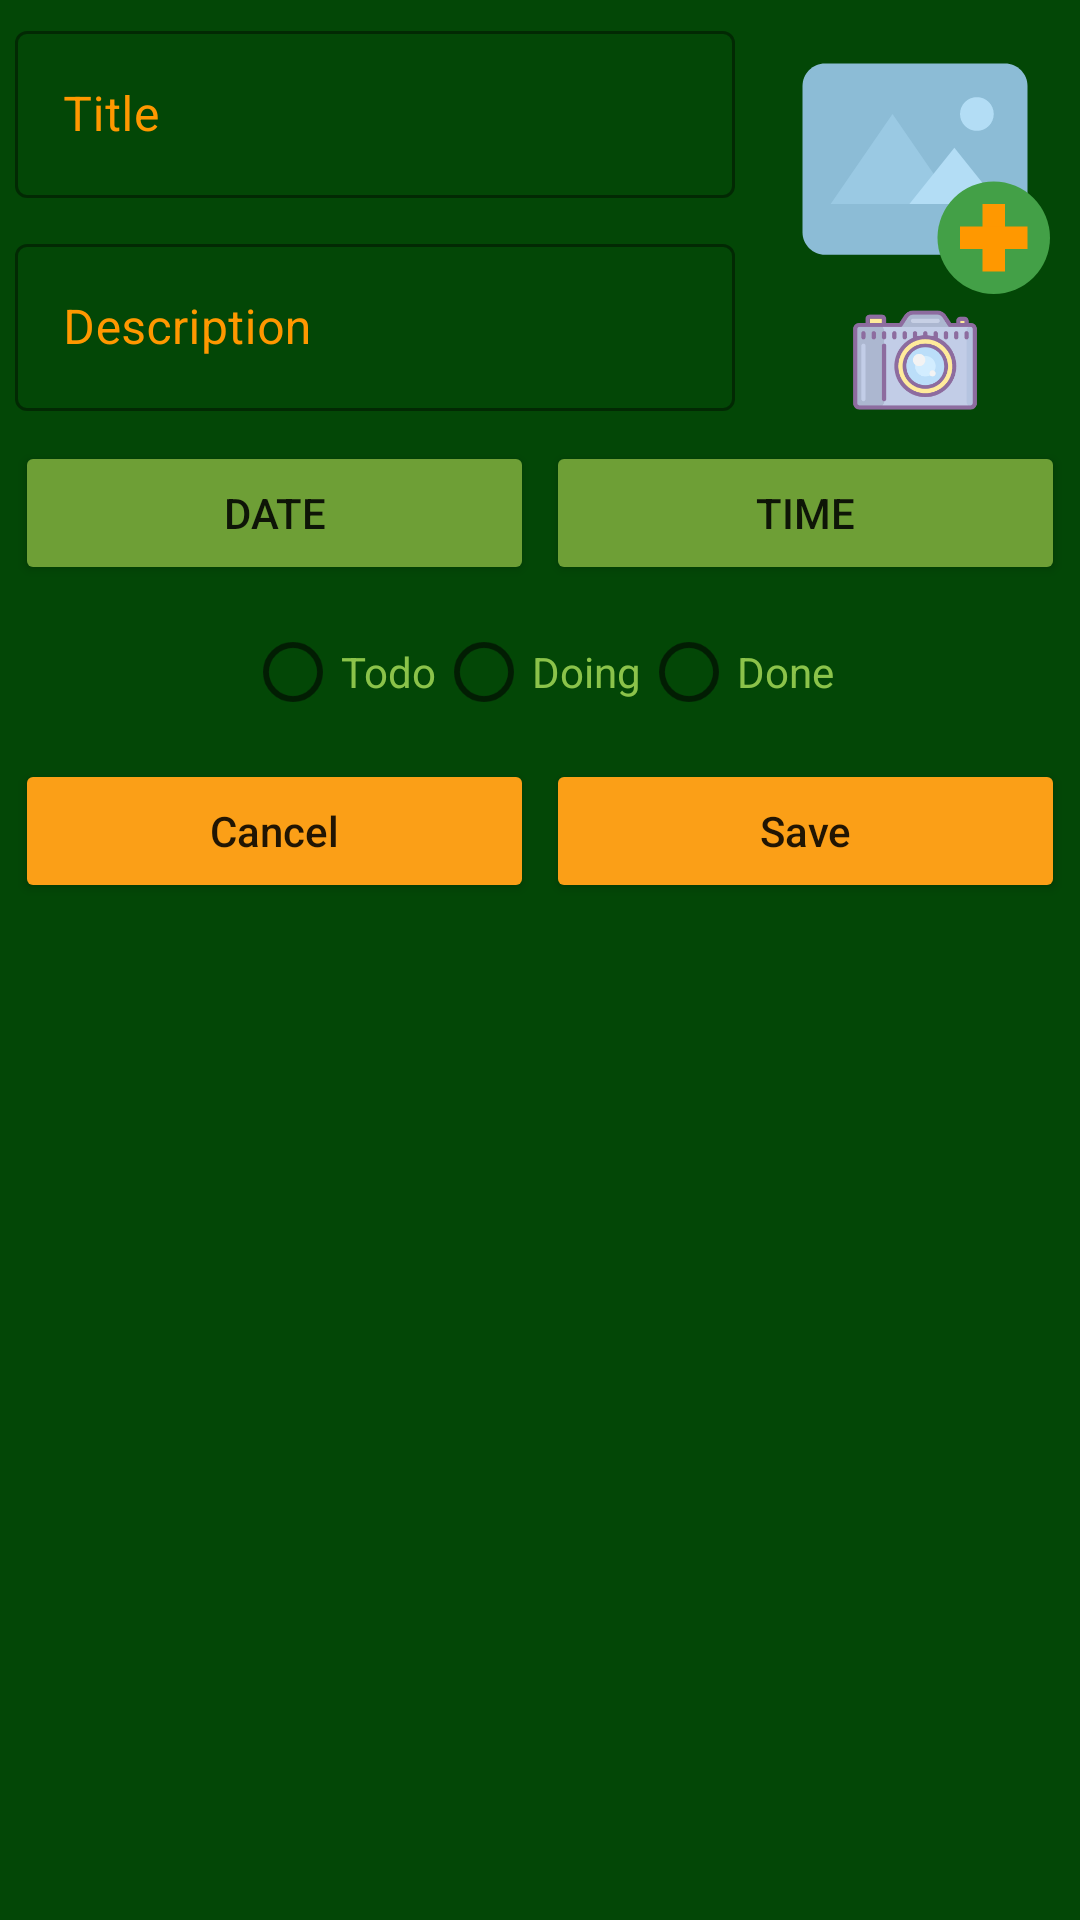

Icon bounding boxes for this 1080*1920 phone screenshot, format [left=x1, top=y1, right=x2, bottom=y2]:
add: [left=802, top=63, right=1050, bottom=294]
camera: [left=853, top=310, right=977, bottom=410]
